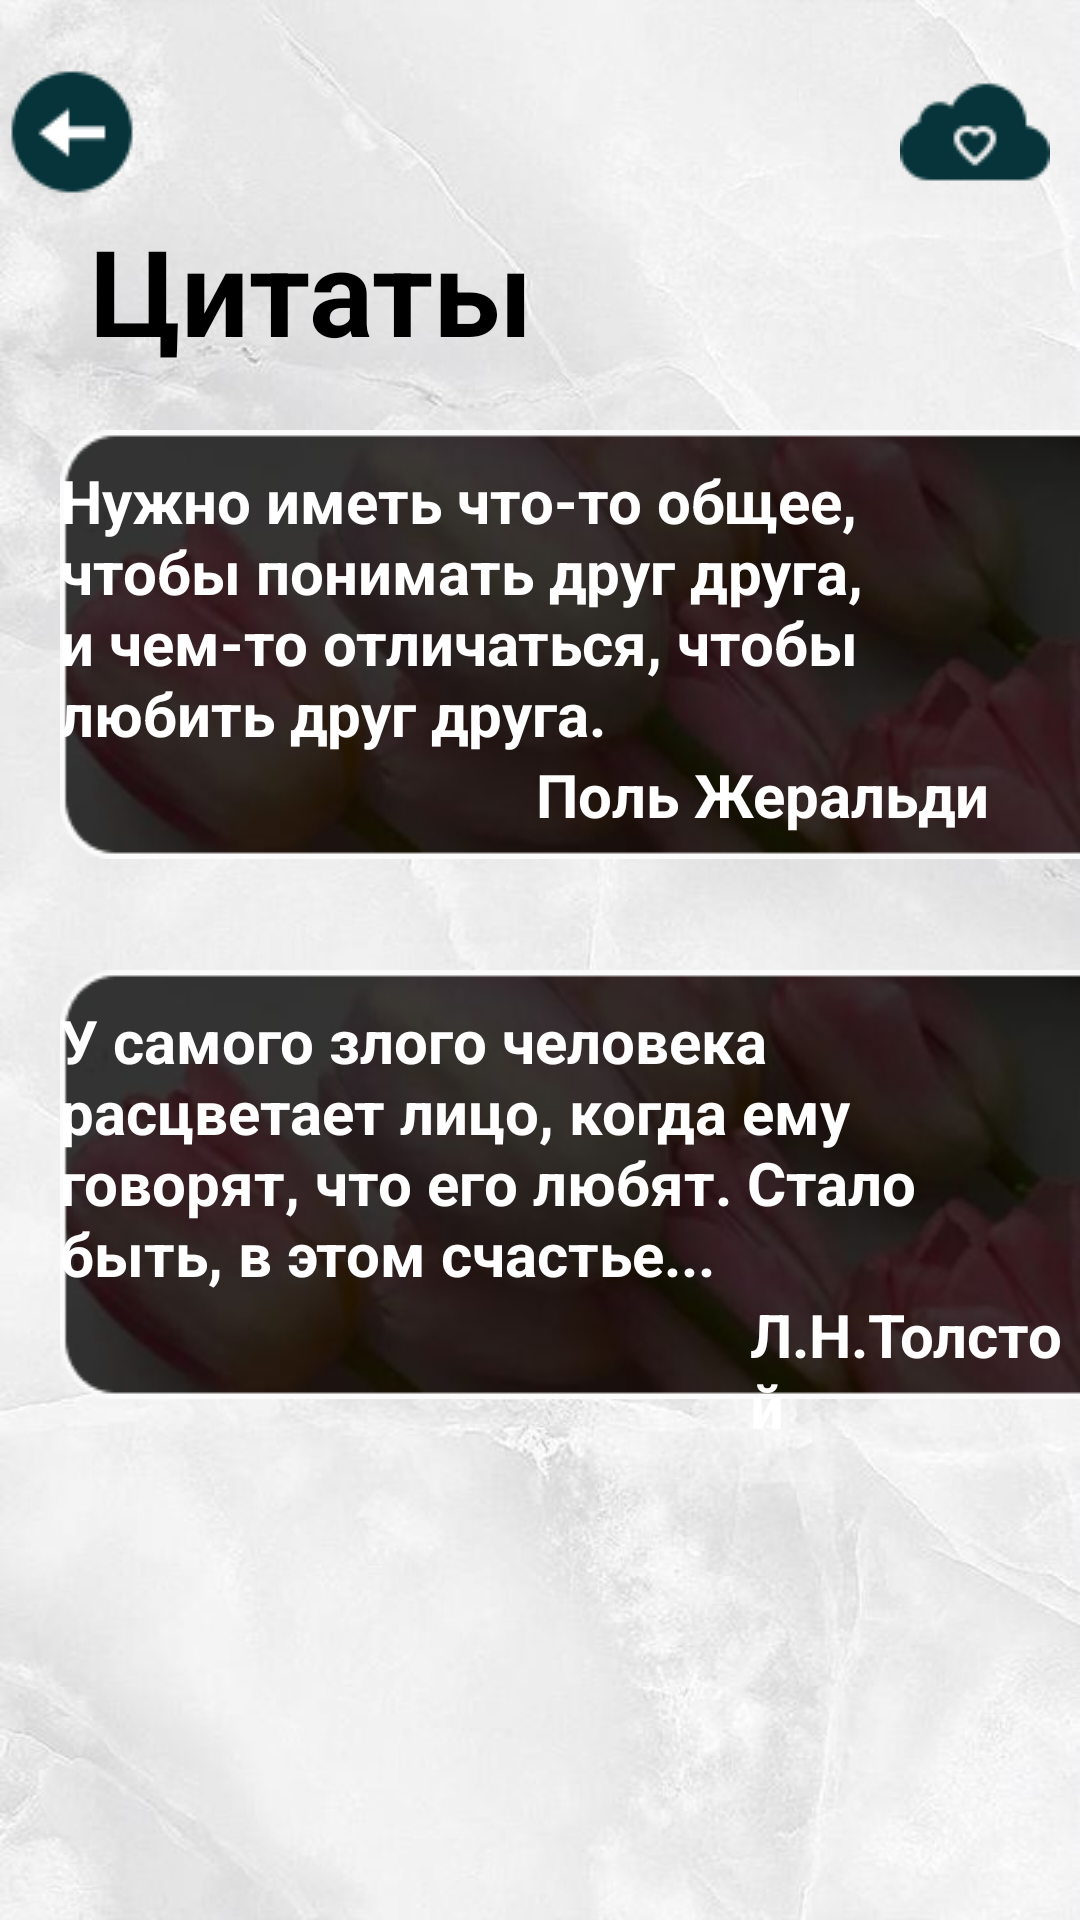

Icons on this 1080px x 1920px Android screen, each with the point to tap as [x,y]:
back: [72,132]
obloko: [975,122]
